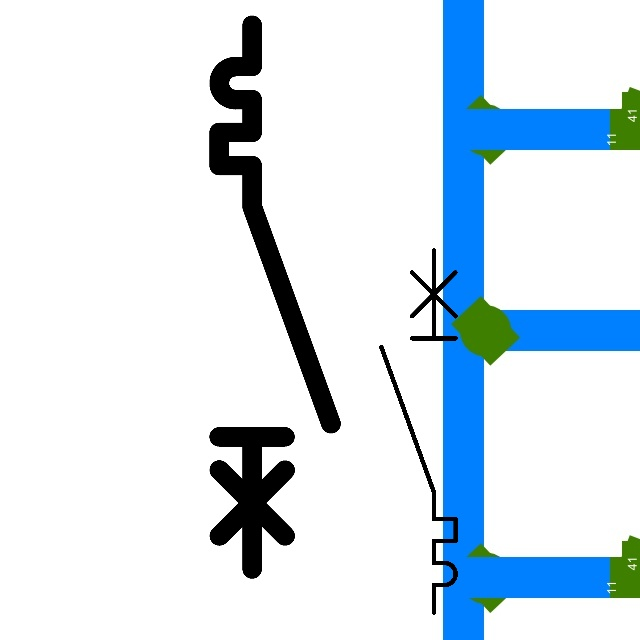interruptor_termomagnetico: (205, 11, 345, 583), (372, 241, 465, 622)
